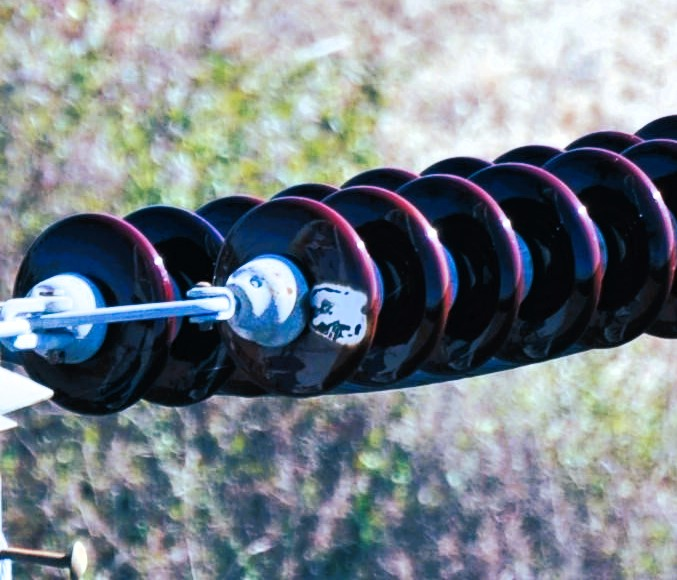Insulator flashover: (213, 195, 384, 398)
